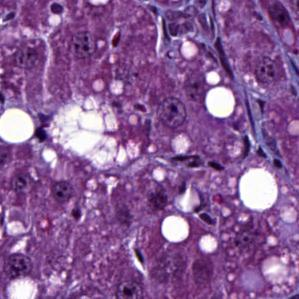ballooning: (46, 92, 153, 171)
